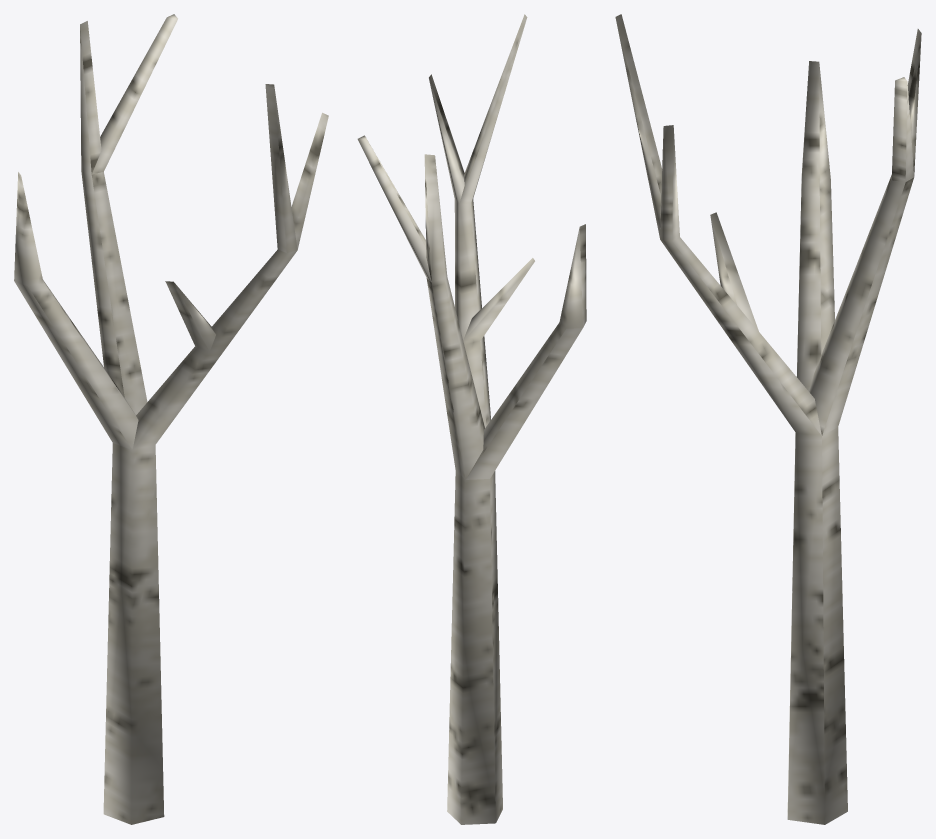
The model's file is birchnak_0.obj.
3 renders of one model, left to right at view 1: azimuth 30°, elevation 25°; view 2: azimuth 150°, elevation 25°; view 3: azimuth 270°, elevation 25°, orthographic. The views are drawn at different scales.
Parts seen in each view (by area): view 1: birchnak_0; view 2: birchnak_0; view 3: birchnak_0.
Part boxes in pixels (left/top/right/bottom): birchnak_0: left=14, top=14, right=328, bottom=824; birchnak_0: left=357, top=14, right=586, bottom=824; birchnak_0: left=615, top=14, right=921, bottom=824.
Bounding box in the file's own units: 1.37 × 4.3 × 1.46.
